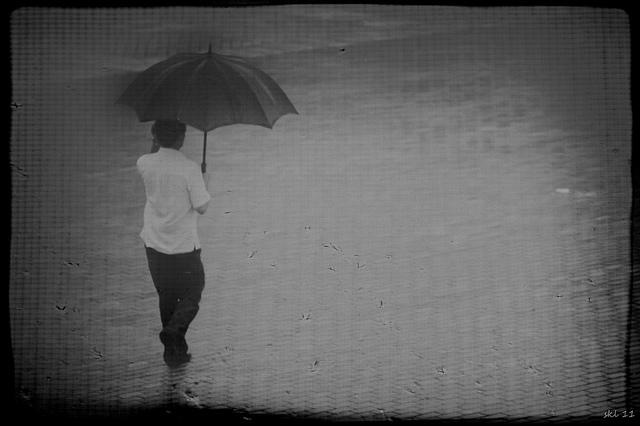person: (133, 113, 221, 364)
